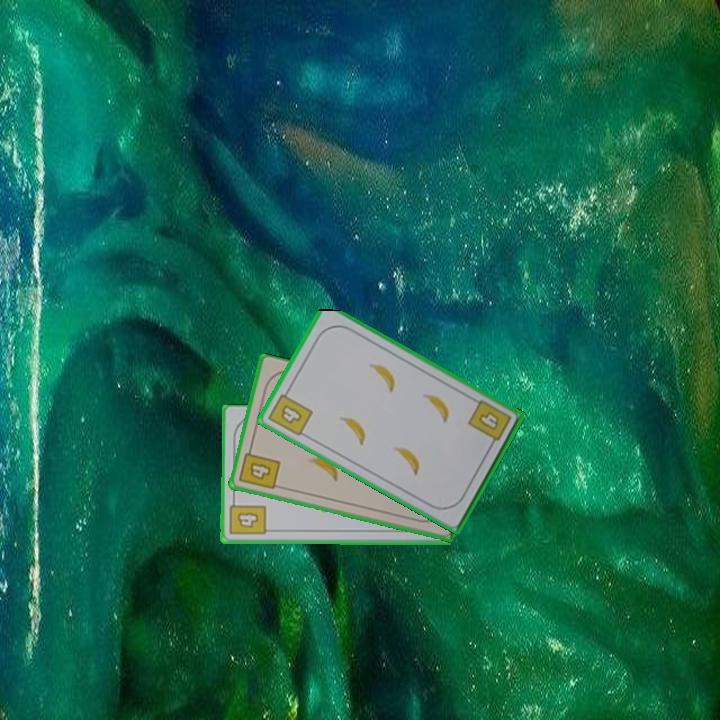4b: (265, 385, 316, 439), (464, 396, 514, 450), (236, 443, 283, 492), (227, 495, 269, 538)
